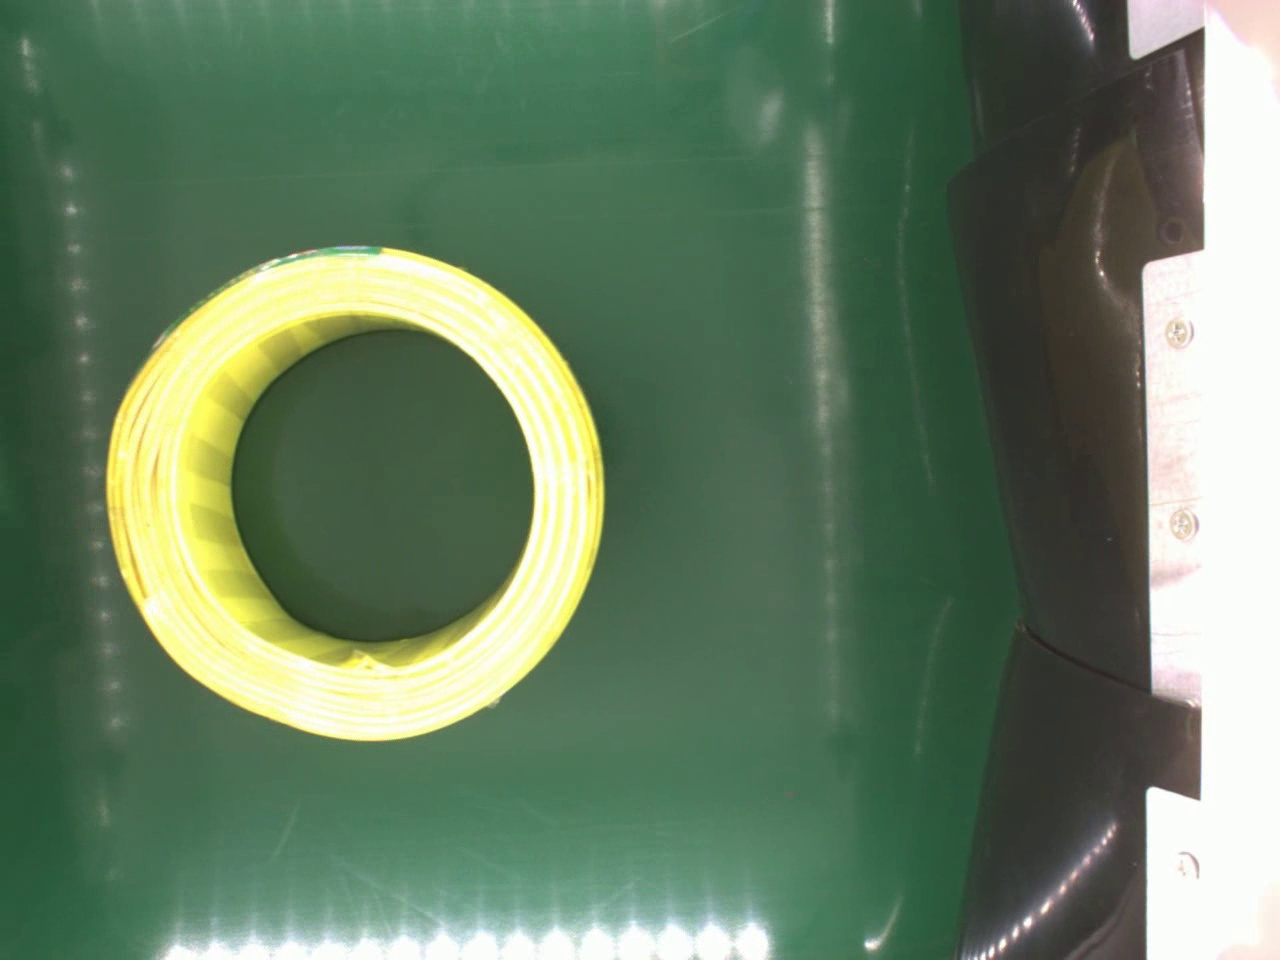yellow: (106, 243, 612, 747)
